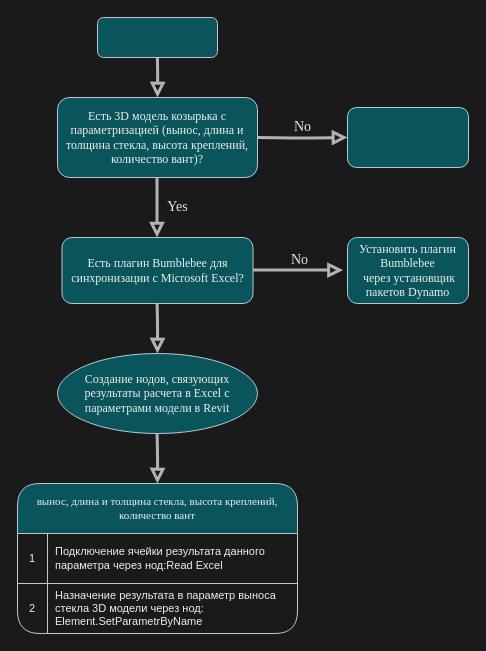
This 486x651 diagram has some shape labels left out. The centre of each missing label's shape, as x and y in pixels:
Связь Revit модели с расчетами в Excel: point 157,37
Создать или найти на сторонних ресурсах: point 407,137
